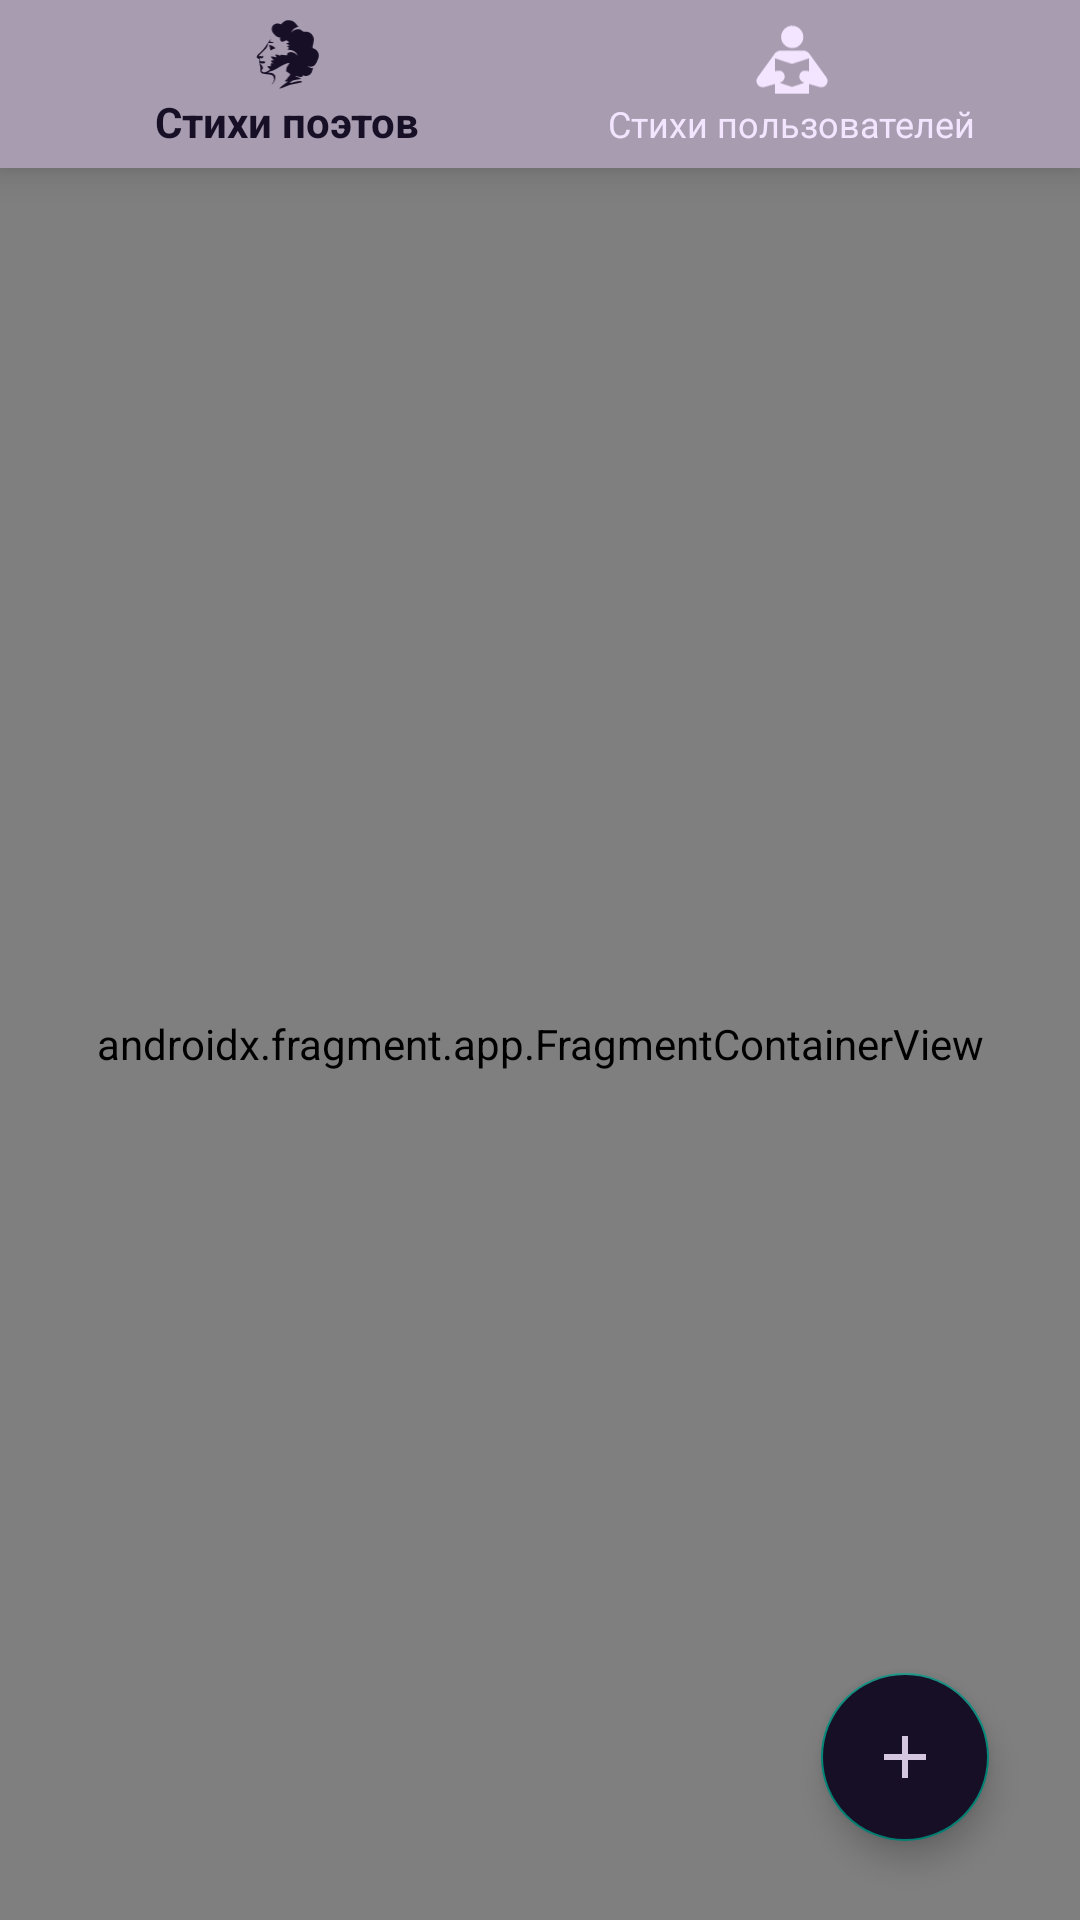

Icons on this 1080x1920 Android screen, each with its box as rect(x1, y1, x2, y2):
Добавить стих: rect(821, 1673, 989, 1841)
